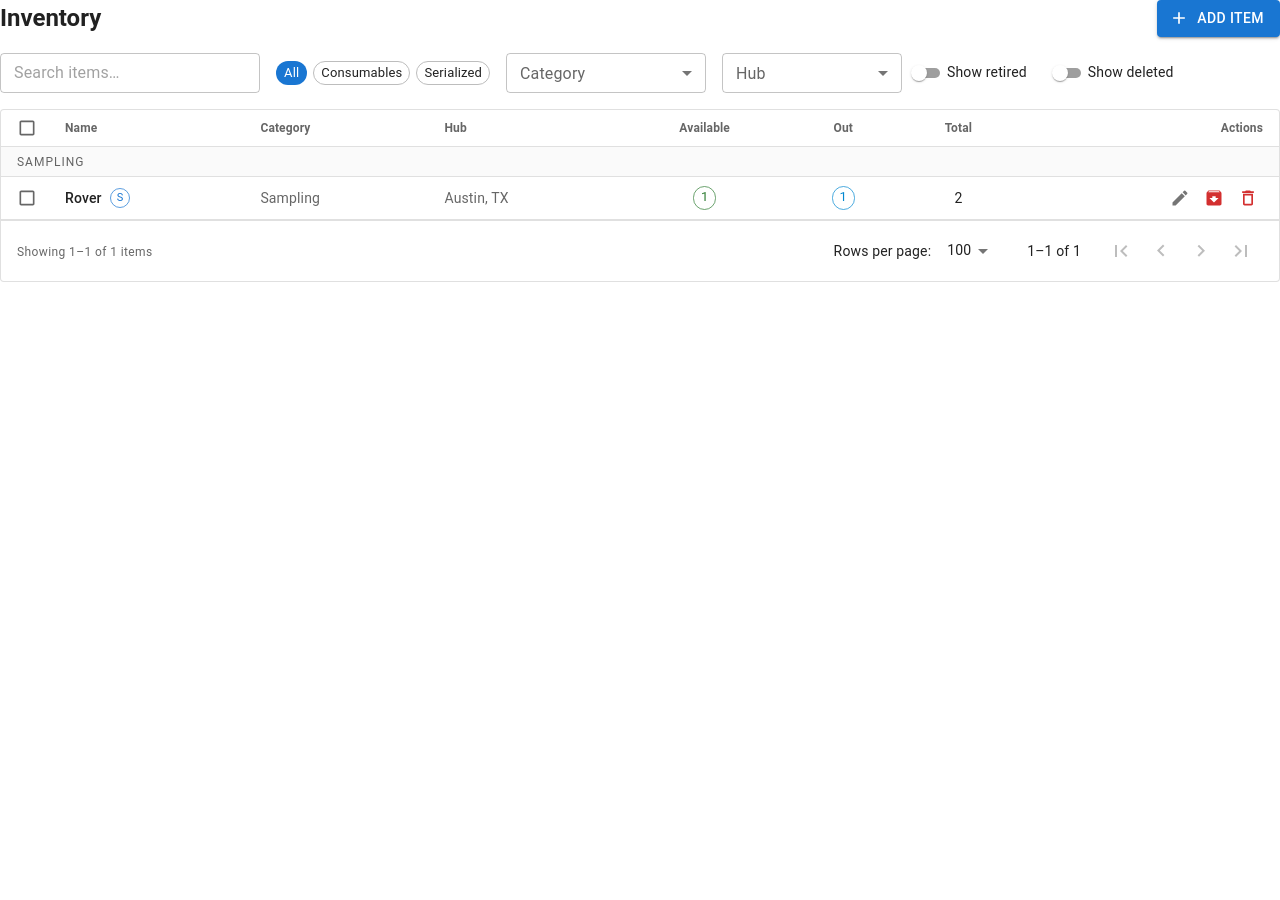
it: item retire (D-a · the BF-1 flow) › a 409 is toasted with the server's words
The width and height of the screenshot is (1280, 900).
Expected: the text "Rover" is shown, [65,188,102,208]
Click the button named "Retire": (1214, 198) [1199,183,1229,213]
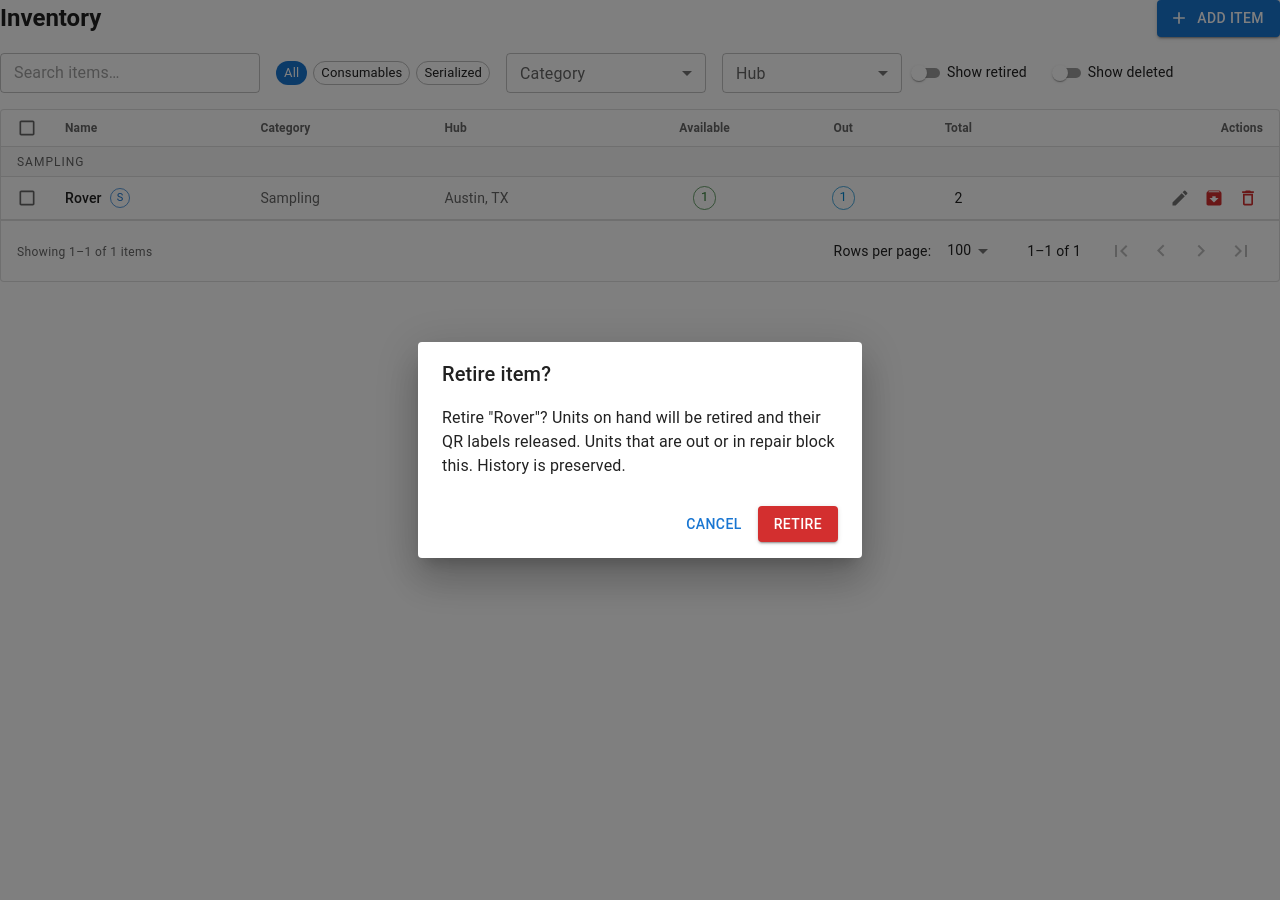
Click the button "Retire": (798, 524) [758,506,838,542]
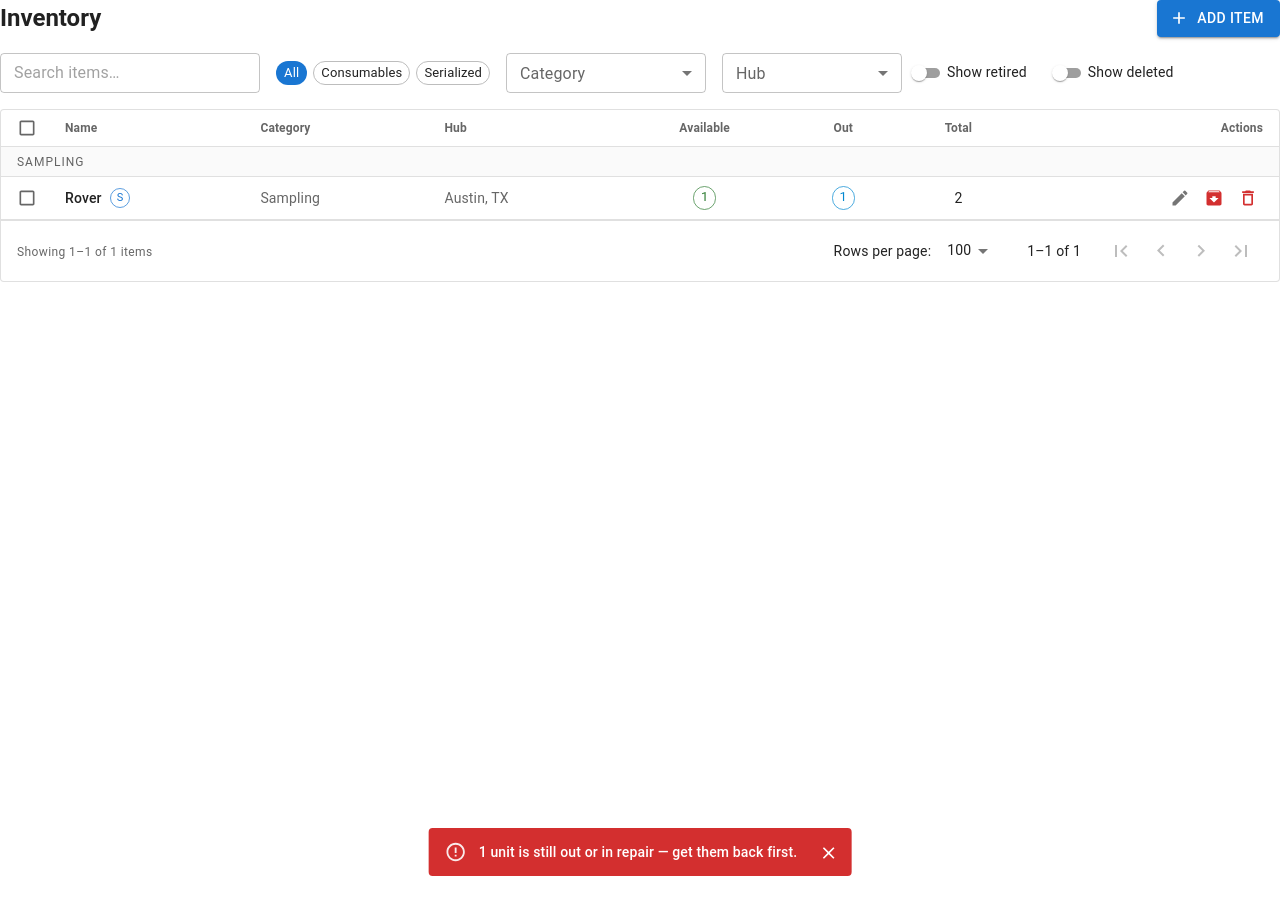
Now the text "1 unit is still out or in repair — get them back first." is shown, box [479,844,797,860]
